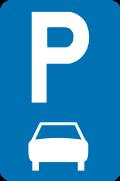Parking Lot Cars: (20, 8, 93, 108), (24, 107, 94, 176)
